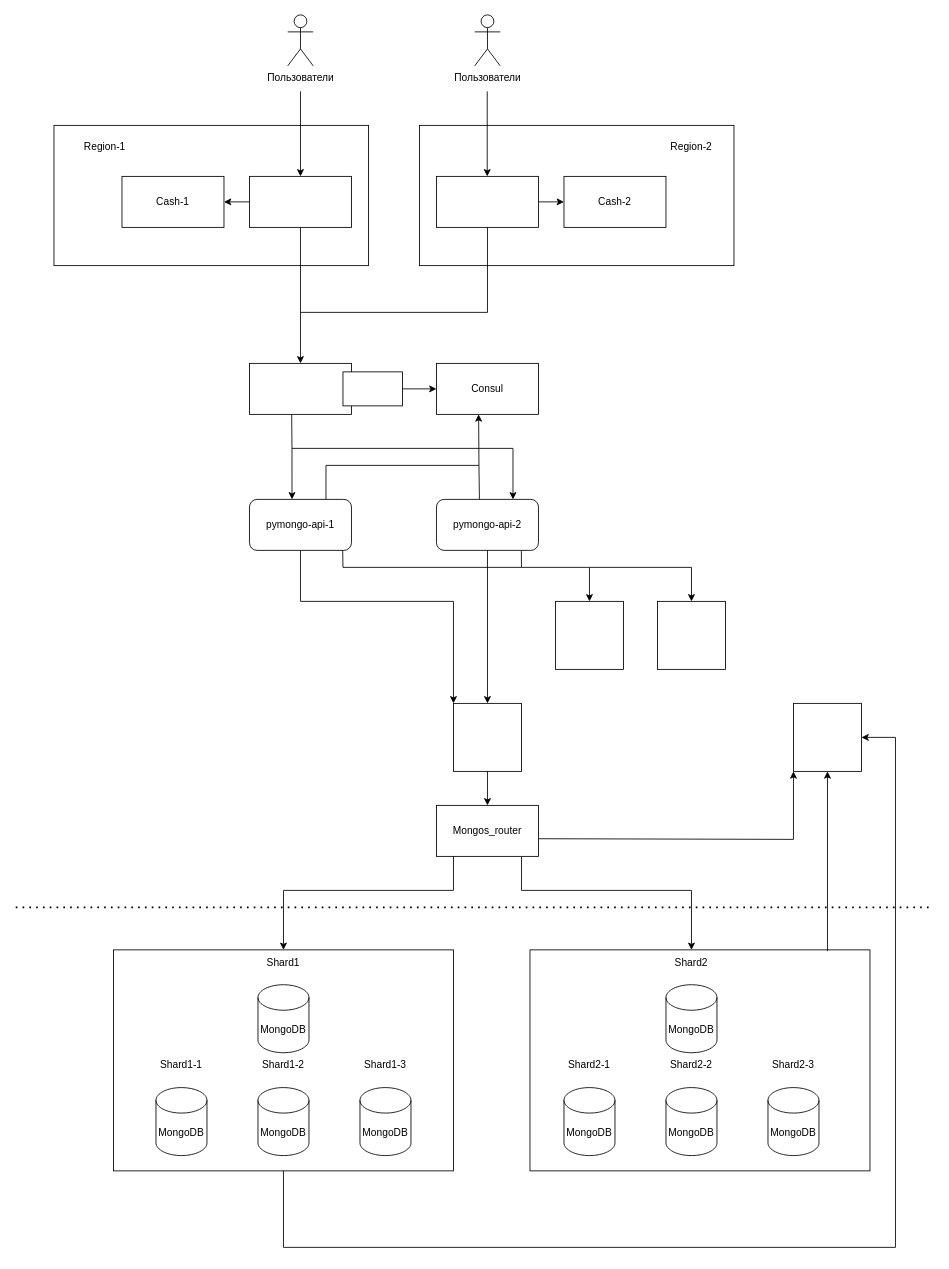
This 949x1269 diagram has some shape labels left out. Here are the shapes that lost their labels. From the top down, the box of each, then its label:
(249, 176, 351, 227): CDN-1
(436, 176, 538, 227): CDN-2
(249, 363, 351, 414): APISIX Gateway
(342, 371, 402, 406): consul_kv
(555, 601, 623, 669): Redis_1
(657, 601, 725, 669): Redis_2
(453, 703, 521, 771): Driver
(793, 703, 861, 771): ConfigSrv
